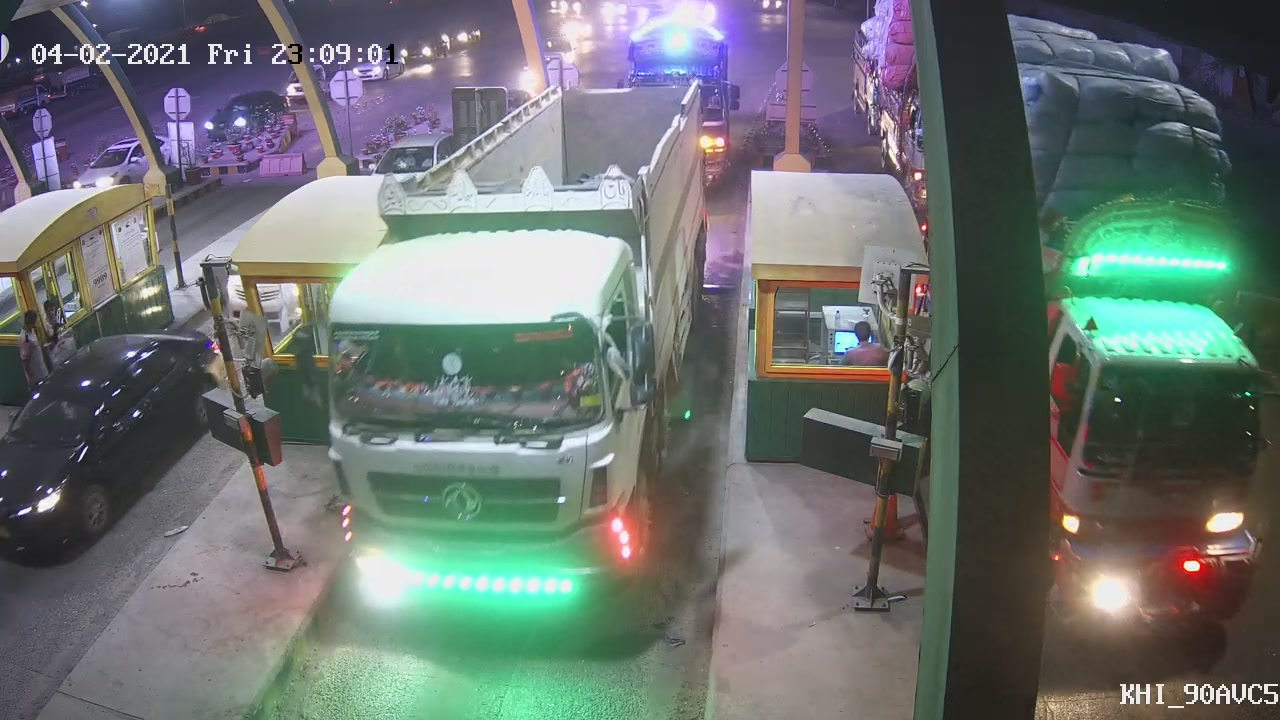F5: (304, 79, 704, 599)
